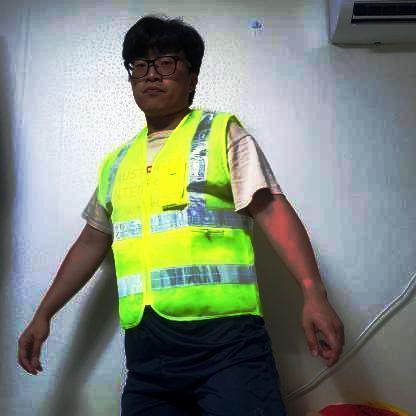no-helmet: (119, 14, 206, 91)
vest: (99, 108, 265, 328)
